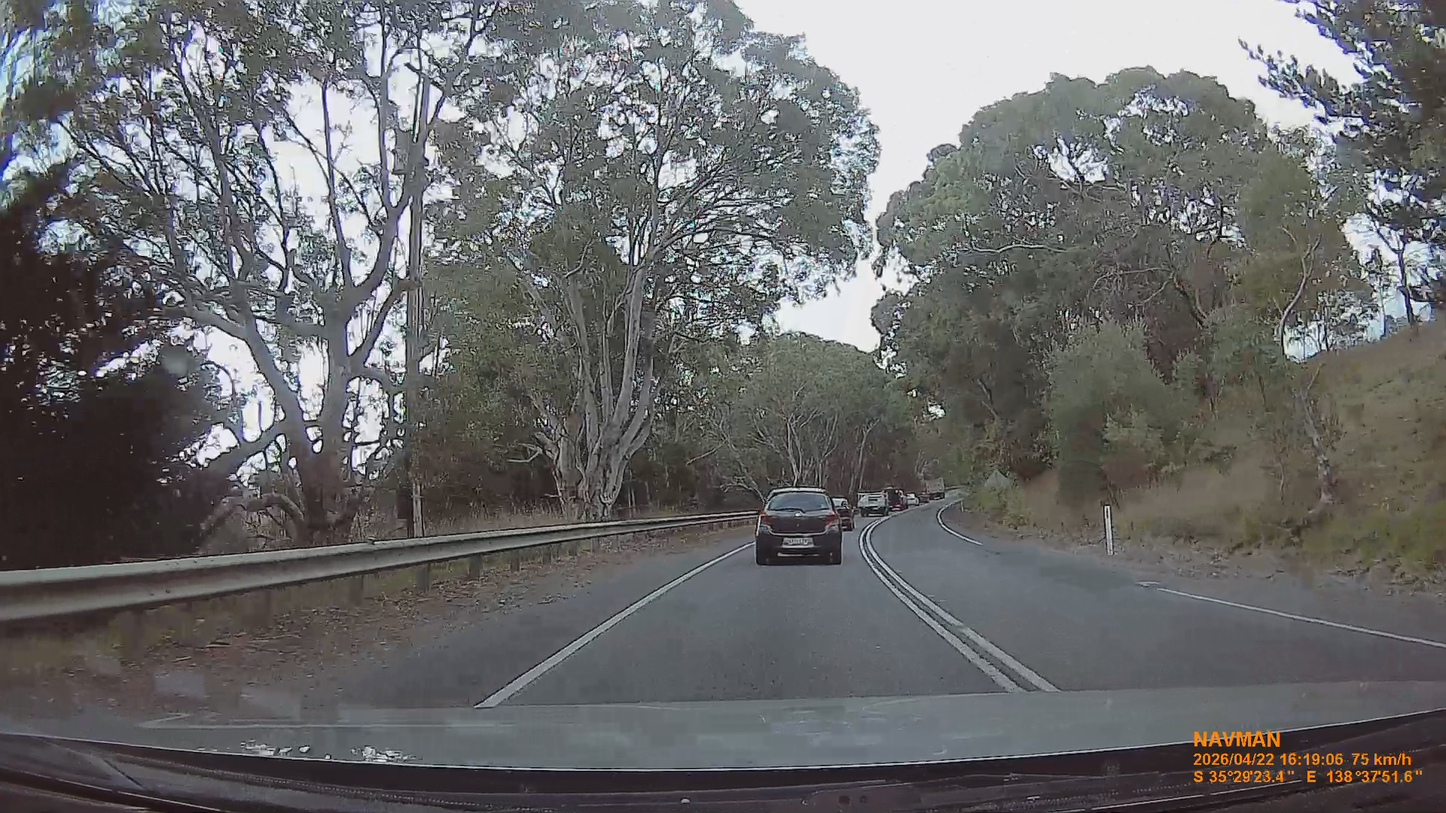road barriers: (0, 513, 746, 638)
